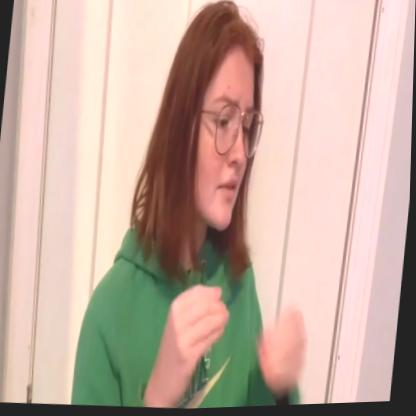Fix: (156, 252, 317, 411)
